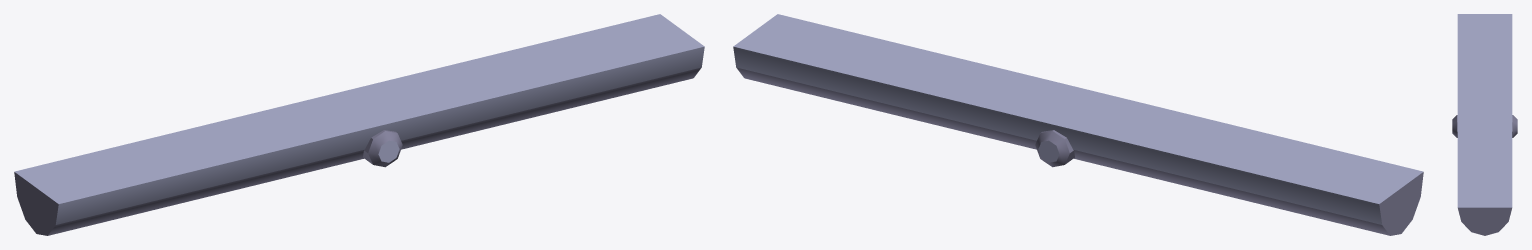
Rendered from Cylinder_Metall.fbx.
3 views of the same model, side by side, from view 1: azimuth 30°, elevation 25°; view 2: azimuth 150°, elevation 25°; view 3: azimuth 270°, elevation 25° (orthographic). The views are drawn at different scales.
Parts seen in each view (by area): view 1: Cylinder.001; view 2: Cylinder.001; view 3: Cylinder.001.
Part boxes in pixels (x1=…): Cylinder.001: x1=14, y1=14, x2=704, y2=235; Cylinder.001: x1=733, y1=14, x2=1423, y2=235; Cylinder.001: x1=1452, y1=14, x2=1517, y2=235.
Bounding box in the file's own units: 403 × 27.49 × 57.34.
